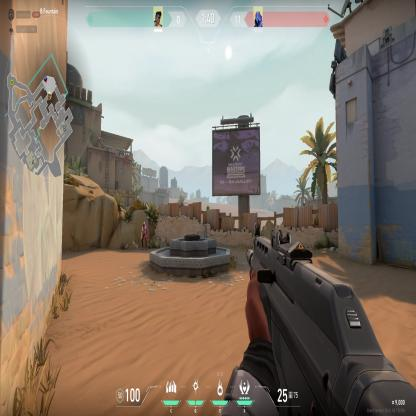enemy: (140, 220, 148, 252)
